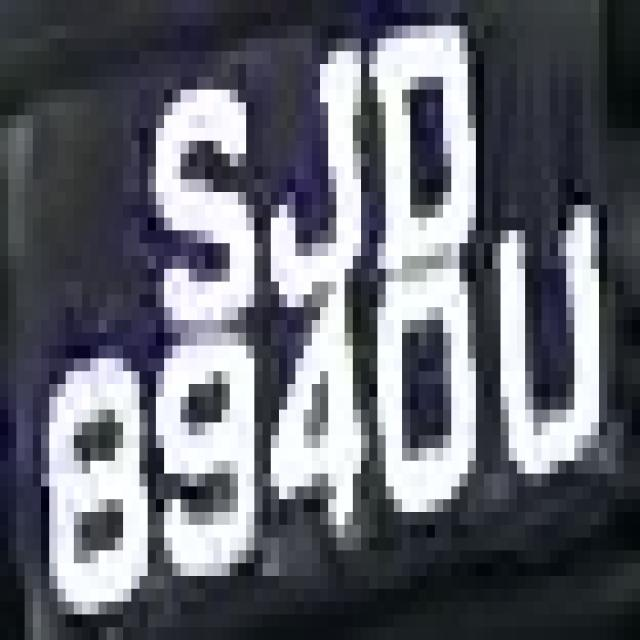0: (361, 230, 476, 525)
4: (238, 269, 369, 550)
8: (33, 346, 164, 627)
9: (147, 294, 270, 589)
D: (369, 0, 484, 282)
J: (238, 25, 369, 332)
S: (140, 38, 262, 333)
U: (492, 205, 616, 525)
